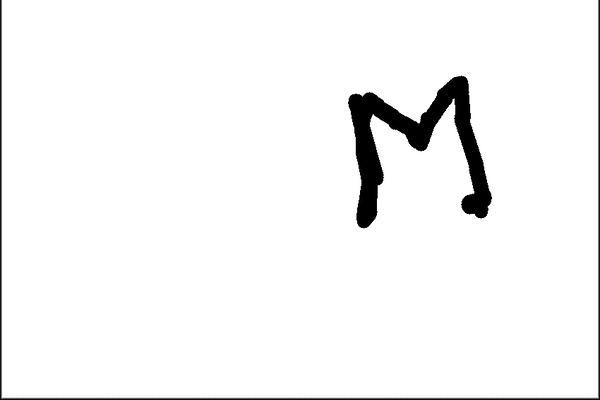M: (344, 69, 492, 224)
